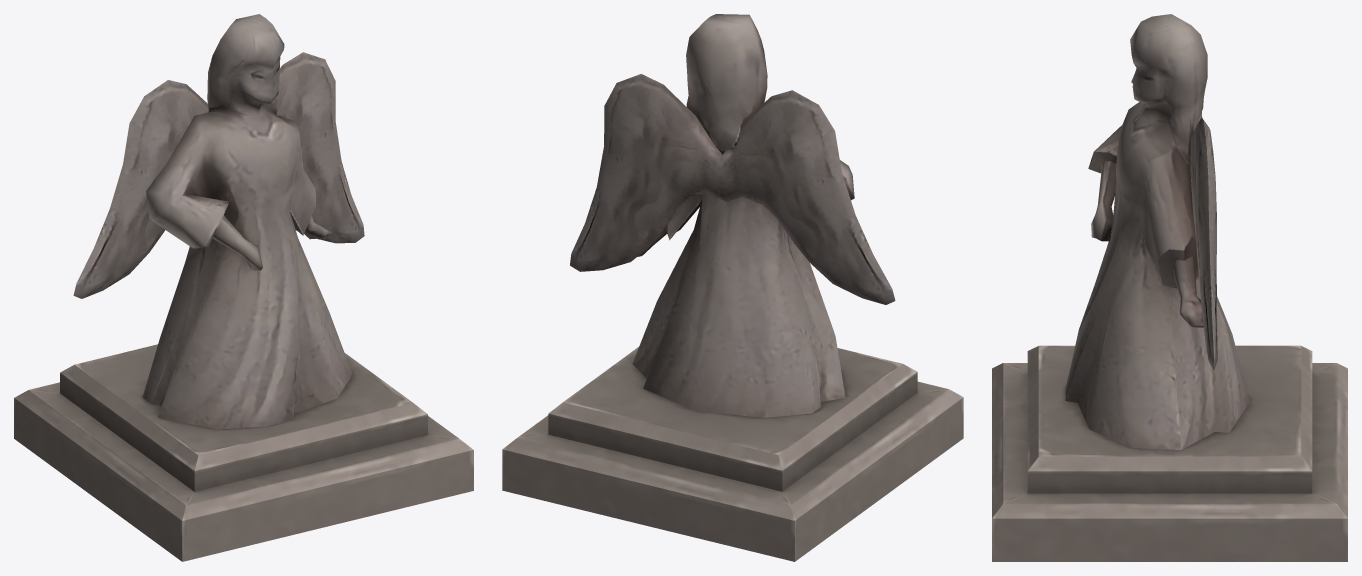
The model's file is GoddessStatues_L_HD.fbx.
The picture shows the model from 3 angles, left to right: view 1: azimuth 30°, elevation 25°; view 2: azimuth 150°, elevation 25°; view 3: azimuth 270°, elevation 25°; orthographic projection. The views are drawn at different scales.
Visible parts, largest first — view 1: GoddessStatues_L; view 2: GoddessStatues_L; view 3: GoddessStatues_L.
Part boxes in pixels (x1,y1,x2,y2): GoddessStatues_L: (14,14,473,561); GoddessStatues_L: (502,14,963,561); GoddessStatues_L: (992,14,1347,561).
Bounding box in the file's own units: 2.14 × 2.89 × 2.
